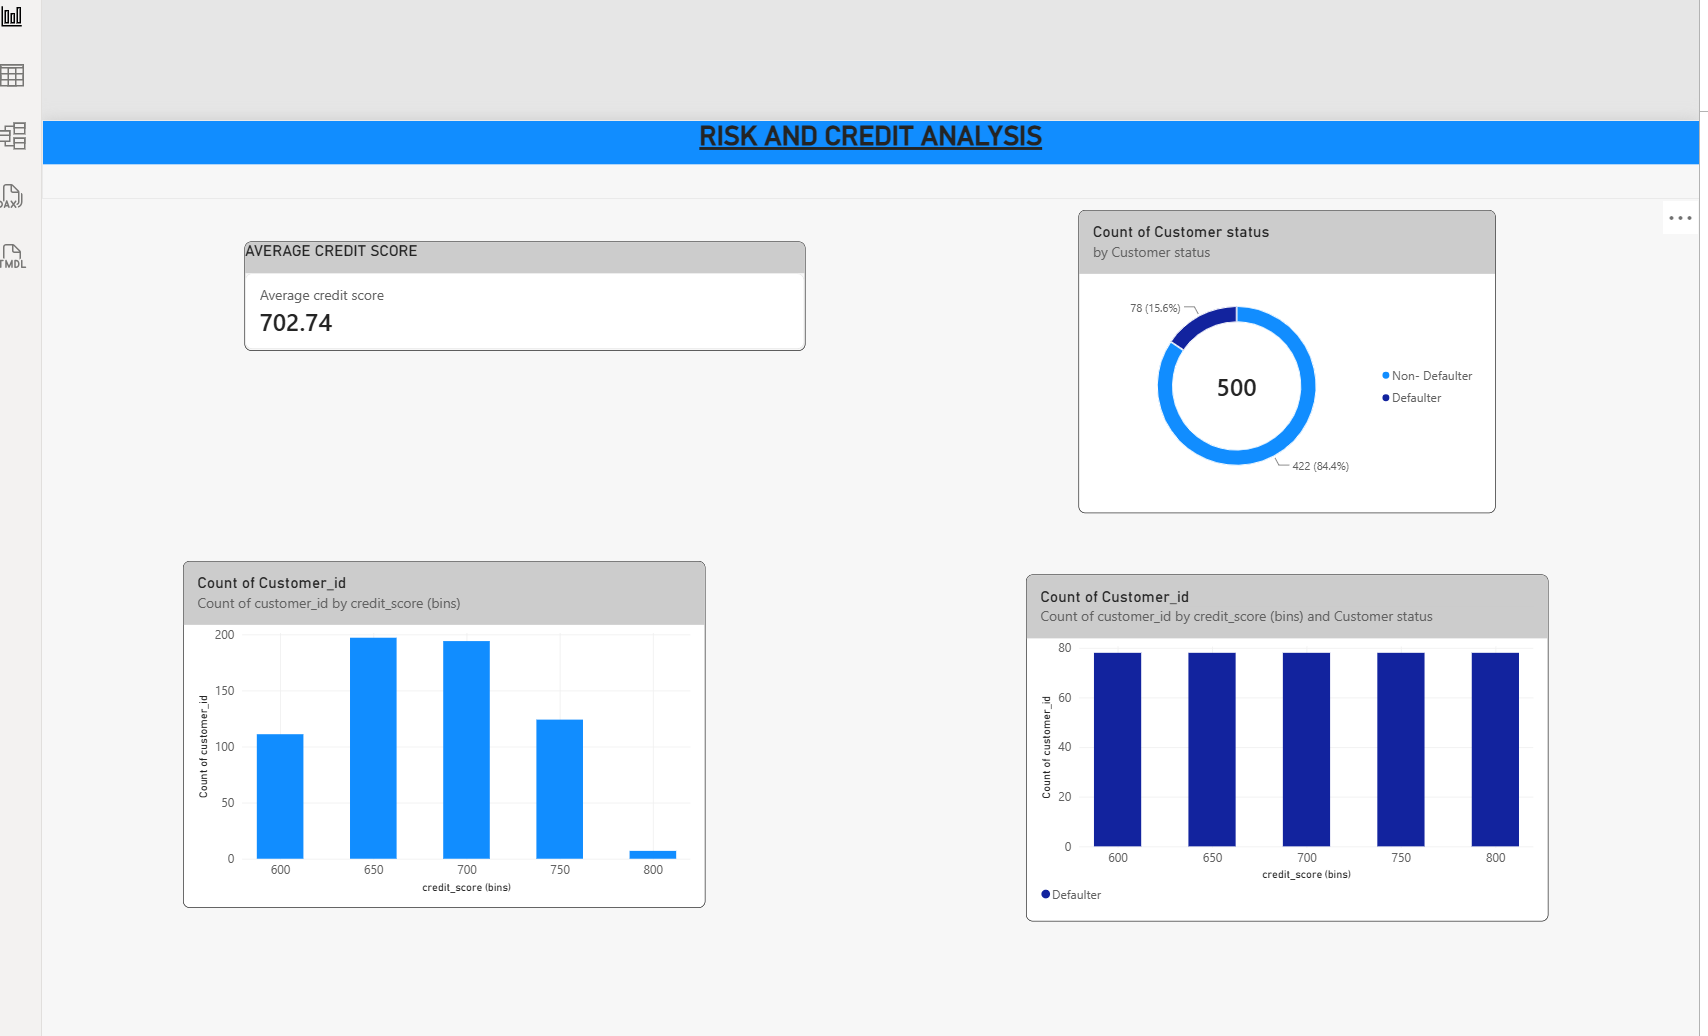

The page's visual inventory and layout, read from the dashboard file:
{"tool":"powerbi","page":{"name":"Page 2","canvas":[1920,1080],"ordinal":1},"visuals":[{"type":"cardVisual","title":"AVERAGE CREDIT SCORE","fields":{"Data":["finance_db accounts.Average credit score"]},"box":[234.6,140.8,650,126.9],"z":0},{"type":"donutChart","fields":{"Category":["finance_db customers.Customer status"],"Y":["CountNonNull(finance_db customers.Customer status)"]},"box":[1201,104.3,483.2,351.1],"z":1000},{"type":"clusteredColumnChart","title":"Count of Customer_id","fields":{"Category":["finance_db credit_score.credit_score (bins)"],"Y":["Count(finance_db credit_score.customer_id)"]},"box":[163.4,511,605,402],"z":2000},{"type":"clusteredColumnChart","title":"Count of Customer_id","fields":{"Category":["finance_db credit_score.credit_score (bins)"],"Series":["finance_db customers.Customer status"],"Y":["Count(finance_db defaulters.customer_id)"]},"box":[1140.2,526.6,605,402],"z":3000},{"type":"textbox","box":[23,0,280,280],"z":4000},{"type":"textbox","title":"RISK AND CREDIT ANALYSIS","box":[0,0,1920.6,92.1],"z":5000}]}

Visuals, with their boxes on the page's 1920x1080 design canvas (x1, y1, x2, y2). These are canvas units, not pixel positions in the 1708x1036 screenshot, which may show the page scaled, cropped or inside an application window:
"AVERAGE CREDIT SCORE" cardVisual: 235:141:885:268
donutChart - finance_db customers.Customer status x CountNonNull(finance_db customers.Customer status): 1201:104:1684:455
"Count of Customer_id" clusteredColumnChart: 163:511:768:913
"Count of Customer_id" clusteredColumnChart: 1140:527:1745:929
textbox: 23:0:303:280
"RISK AND CREDIT ANALYSIS" textbox: 0:0:1921:92
